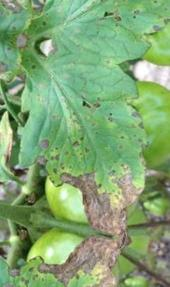Tomato leaf bacterial spot: (0, 43, 168, 241)
